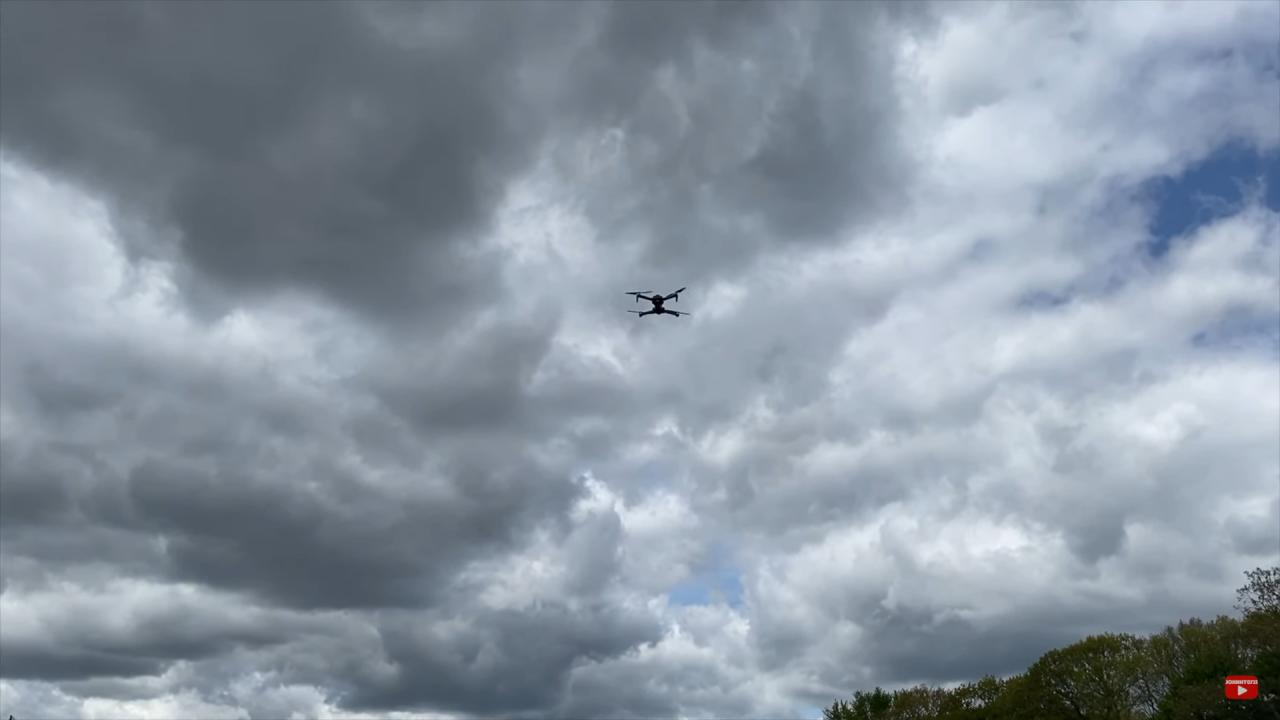Drone: (616, 277, 700, 332)
